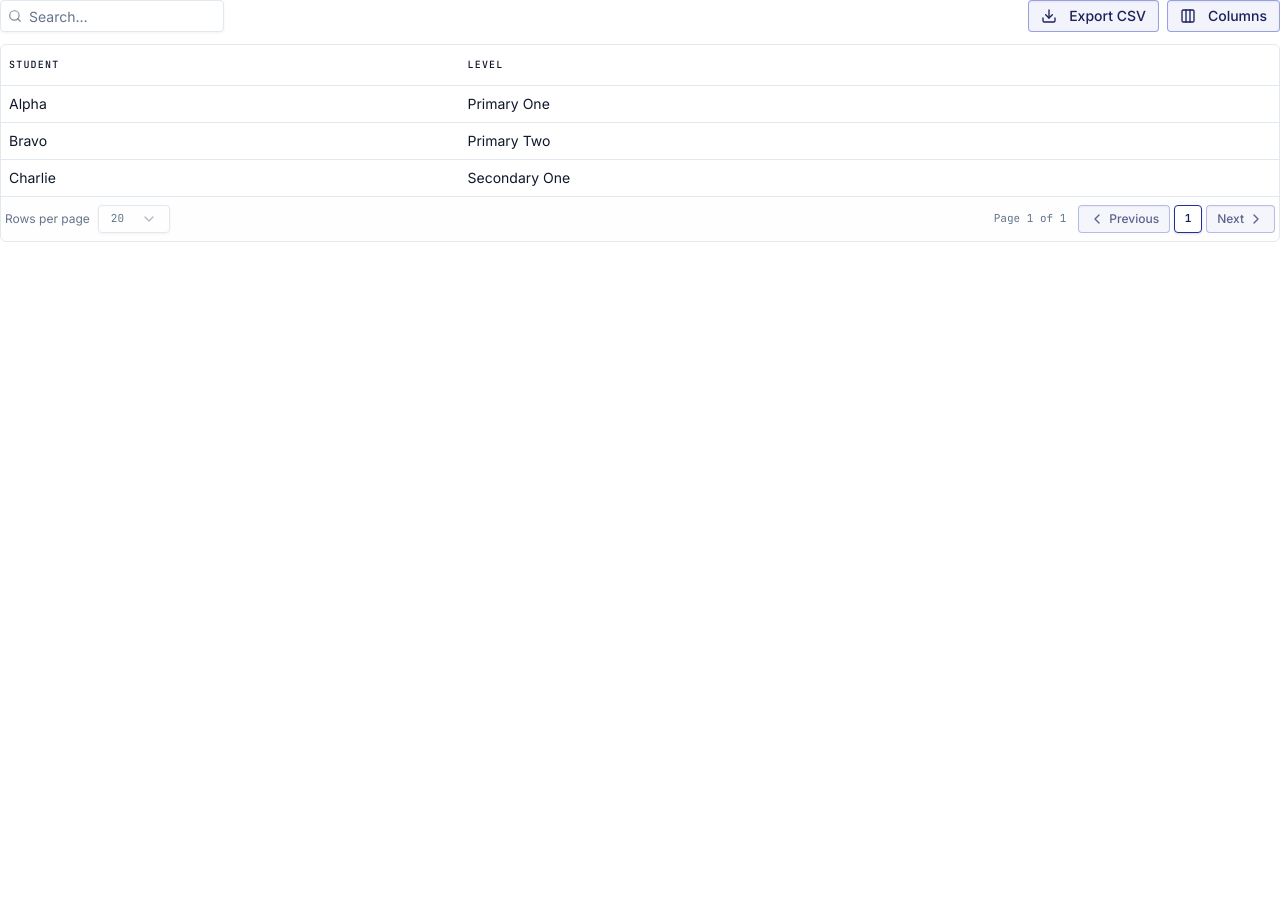
Scenario: advanced export — filtering › exports everything and stays calm before any rule is added
The image size is (1280, 900).
Click the button "Export CSV".
click(1094, 16)  # box [1028,0,1159,32]
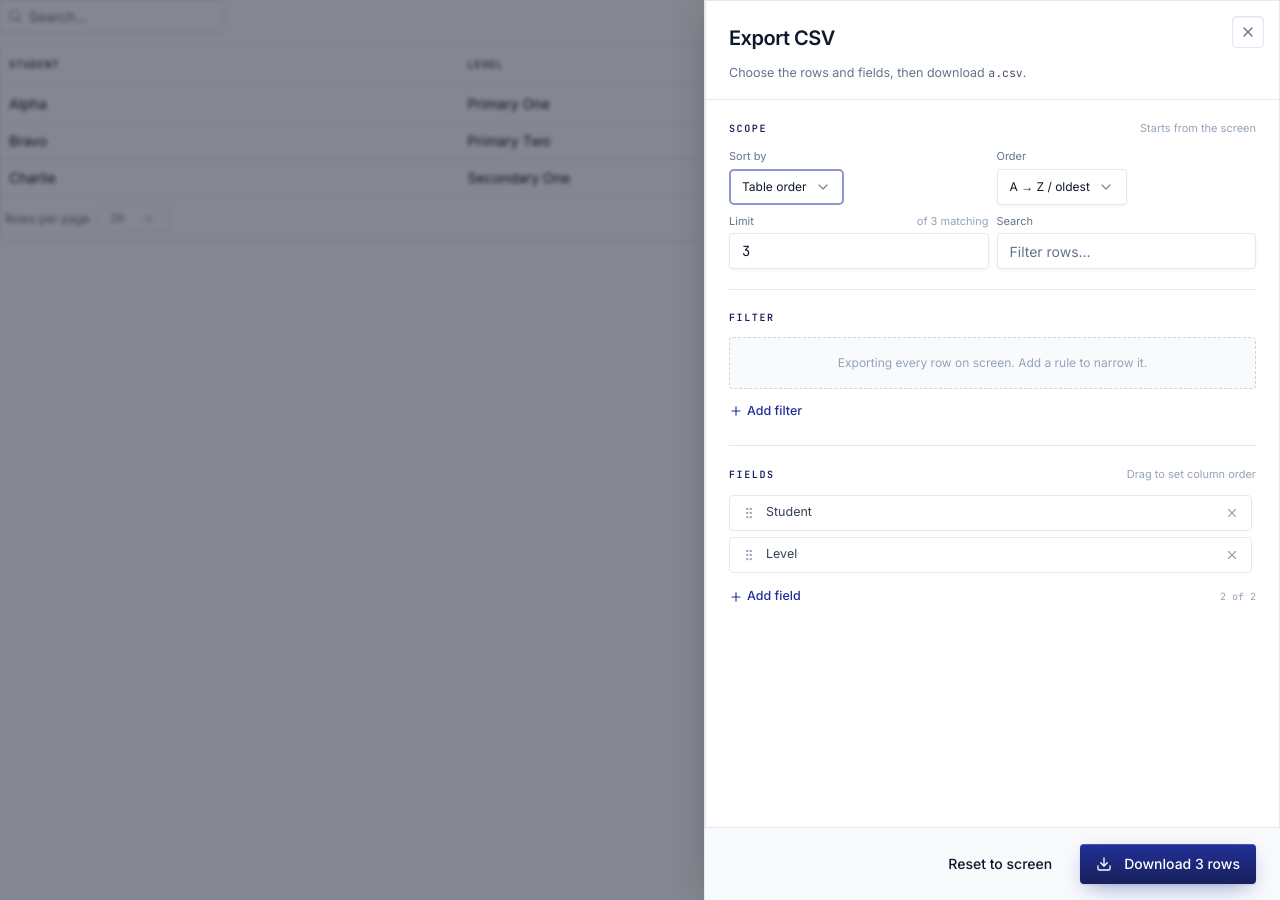
Check: the text "Drag to set column order" is shown, box [1127,466,1256,483]
Check: the button "Download 3 rows" is shown, box [1080,844,1256,884]
Check: the text "Exporting every row on screen. Add a rule to narrow it." is shown, box [729,337,1256,389]
